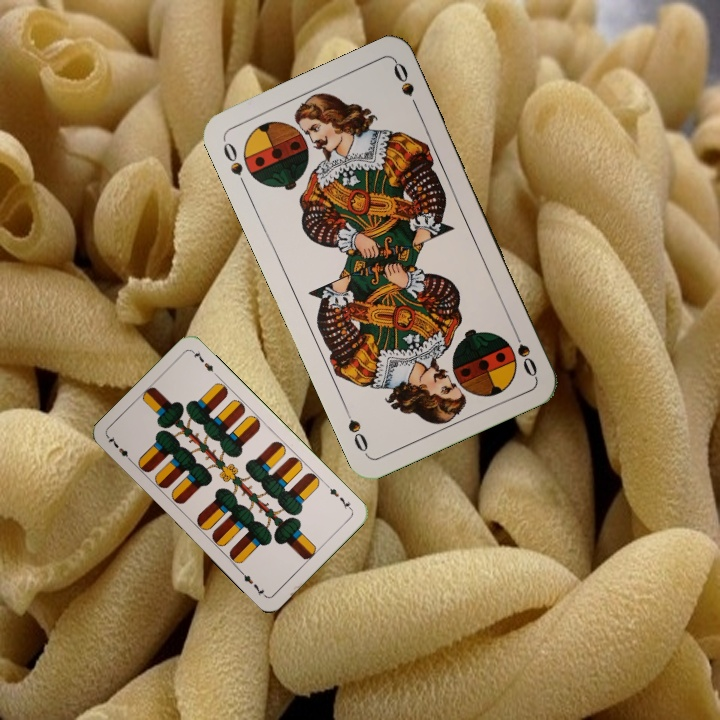E7: (104, 432, 136, 465), (322, 481, 355, 512)
SO: (508, 323, 540, 380), (219, 136, 250, 192)
